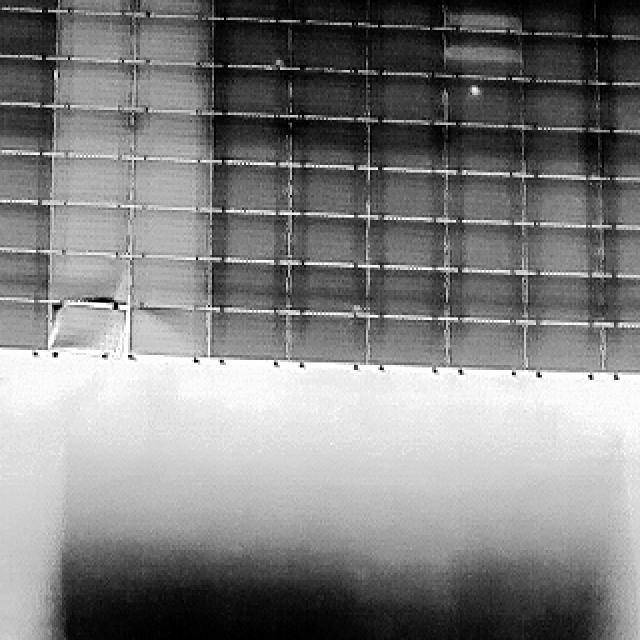Hotspots: (465, 80, 484, 98), (443, 12, 464, 28), (270, 54, 286, 68)
PV-modules: (283, 315, 369, 367), (444, 269, 526, 323), (125, 255, 208, 308), (125, 309, 211, 360), (130, 206, 212, 259), (282, 263, 367, 314), (365, 267, 448, 319), (364, 318, 448, 369), (442, 125, 523, 177), (367, 221, 452, 270), (206, 258, 286, 310), (132, 162, 212, 214), (444, 224, 524, 276), (285, 217, 366, 268), (520, 324, 601, 375), (133, 112, 214, 163), (520, 228, 599, 280), (134, 62, 213, 114), (49, 252, 128, 304), (48, 303, 124, 357), (286, 66, 368, 116), (208, 310, 290, 360), (50, 158, 132, 208), (286, 166, 366, 217), (443, 321, 524, 371), (212, 166, 291, 217), (211, 211, 290, 262), (368, 171, 450, 220), (364, 72, 446, 121), (50, 203, 130, 253), (443, 176, 523, 226), (442, 76, 522, 126), (213, 66, 291, 117), (135, 19, 213, 70), (286, 22, 367, 71), (290, 118, 369, 168), (520, 79, 597, 130), (369, 121, 449, 170), (520, 179, 598, 229), (364, 29, 445, 77), (213, 116, 290, 166), (213, 22, 290, 72), (520, 129, 597, 179), (57, 15, 135, 64), (520, 274, 596, 324), (54, 108, 131, 157), (520, 35, 598, 83), (442, 34, 520, 81), (56, 58, 132, 106), (0, 10, 56, 60), (0, 105, 56, 155), (0, 248, 52, 300), (518, 0, 594, 35), (0, 300, 52, 350), (0, 55, 54, 103), (0, 198, 50, 248), (0, 152, 50, 202), (444, 0, 520, 32), (596, 273, 640, 325), (597, 83, 640, 133), (596, 36, 640, 84), (288, 0, 370, 25), (368, 0, 448, 25), (601, 323, 640, 374), (601, 228, 640, 278), (601, 180, 640, 230), (600, 129, 640, 177), (594, 0, 640, 35), (138, 0, 212, 20), (212, 0, 288, 18), (60, 0, 136, 15), (0, 0, 58, 10)
